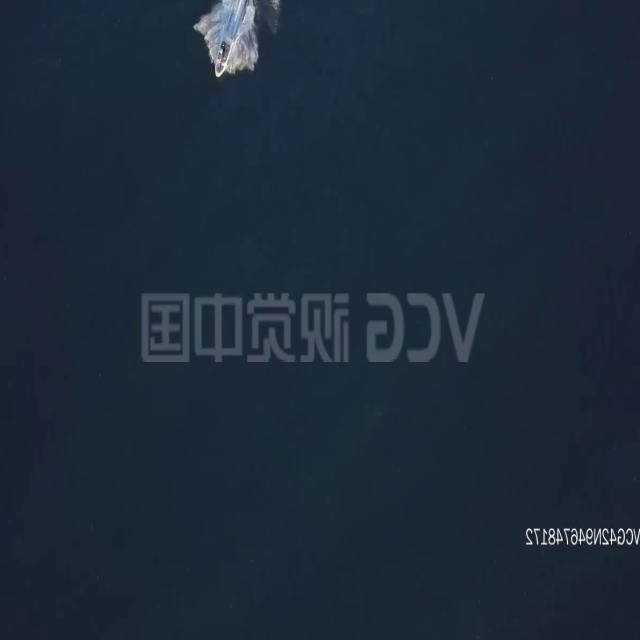houseboat: (214, 32, 232, 77)
